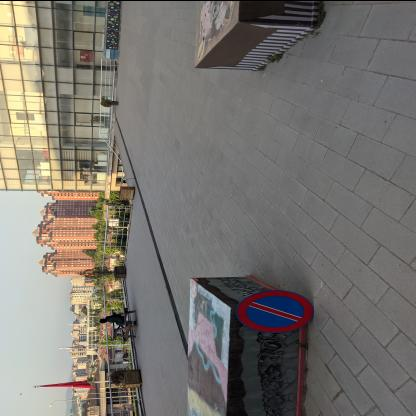No Waiting: (237, 291, 315, 334)
